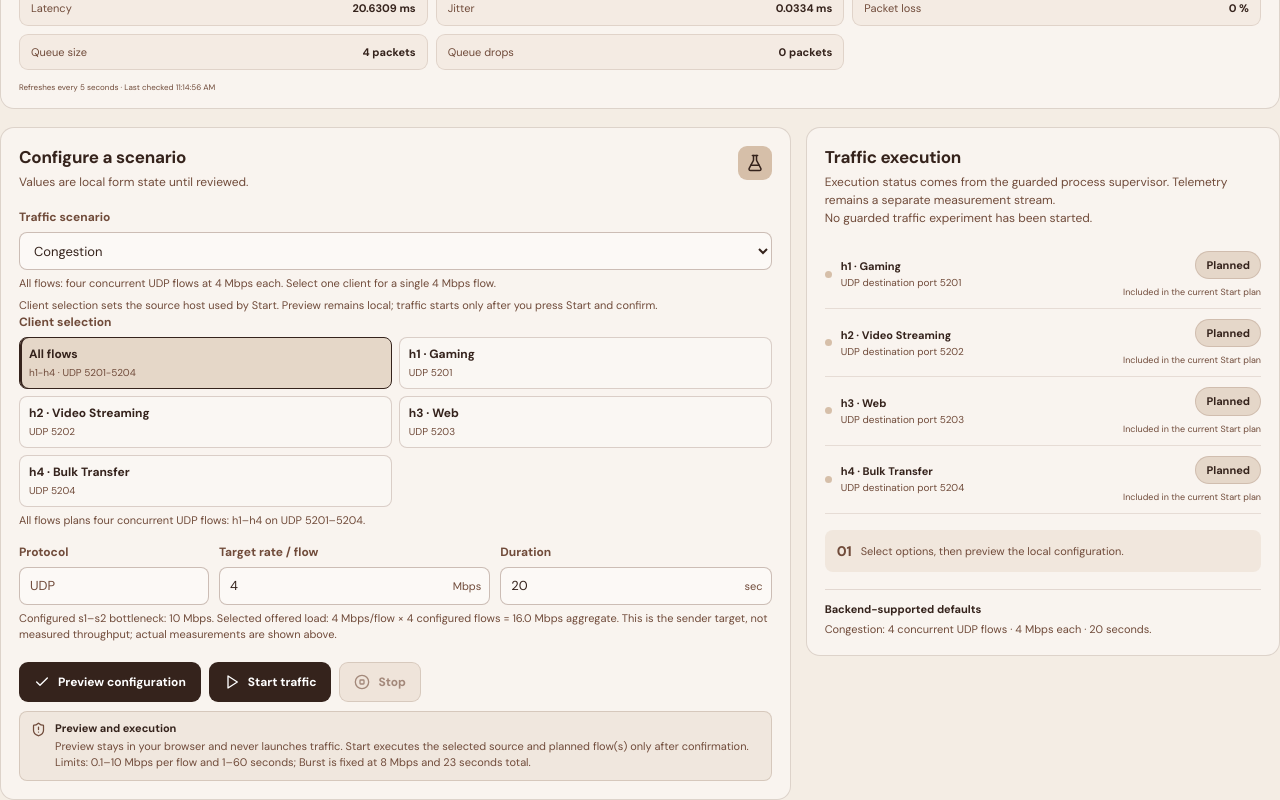
Test: Traffic Lab telemetry and execution boundary › confirms and starts the selected real congestion preset
(page scrolled)
Expected: the button with class "flow-choice" shows "All flows", x1=19 y1=337 x2=392 y2=389
Click the button "Start traffic". click: (270, 682)
box: x1=209 y1=662 x2=331 y2=702
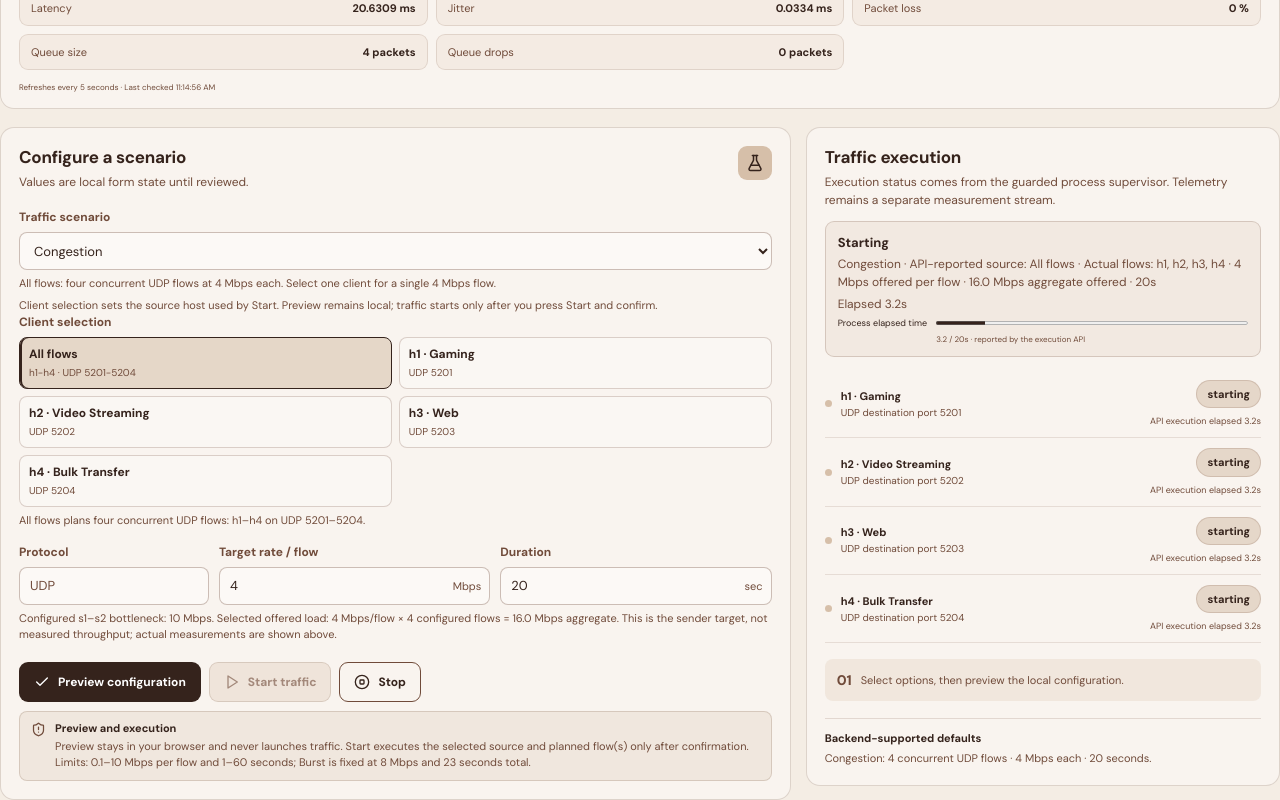
Expected: the text "Traffic execution" is shown, x1=825 y1=146 x2=961 y2=168
Expected: the text "Starting" is shown, x1=838 y1=234 x2=889 y2=251
Expected: the text "4 Mbps offered per flow · 16.0 Mbps aggregate offered" is shown, x1=838 y1=255 x2=1248 y2=291
